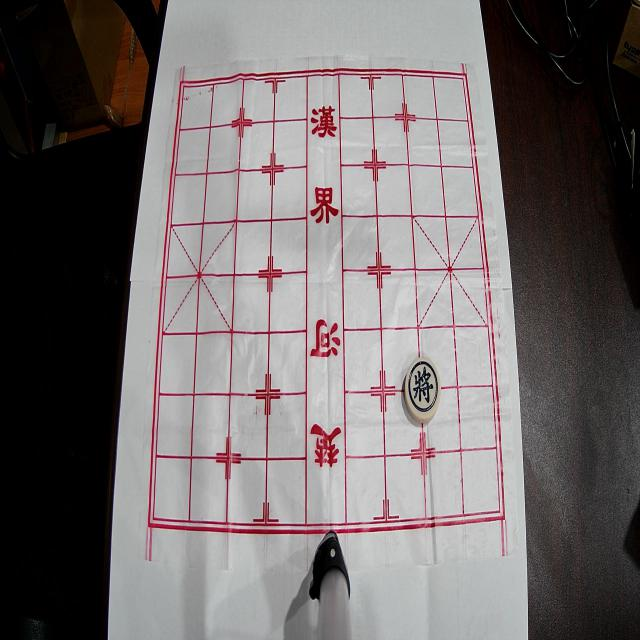black-general: (405, 357, 441, 423)
